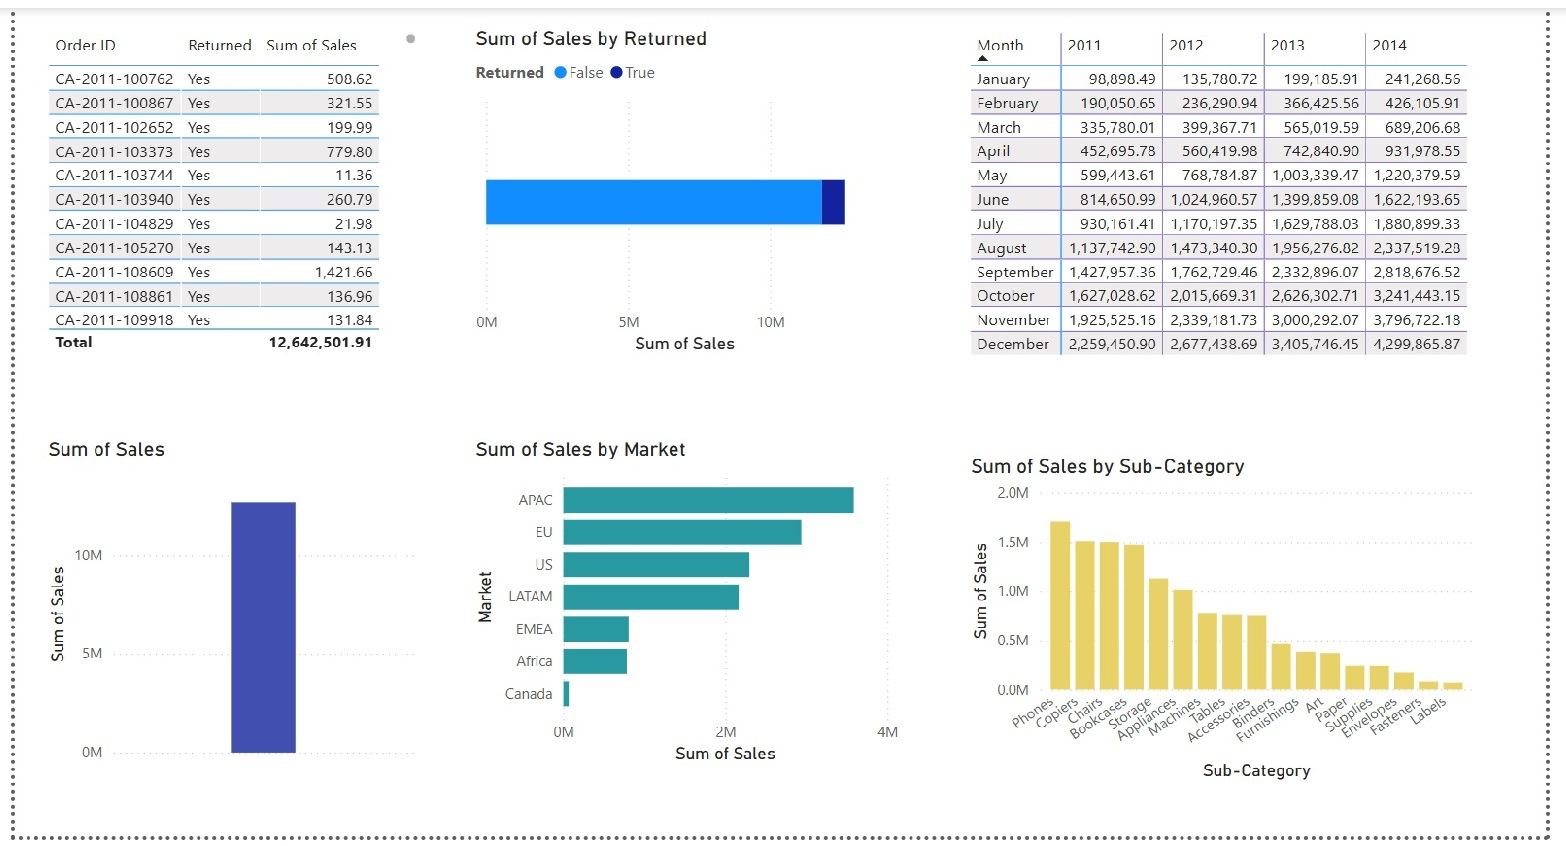

What the dashboard file says about the page in this screenshot:
{"tool":"powerbi","page":{"name":"Page 1","canvas":[1280,720],"ordinal":0},"visuals":[{"type":"tableEx","fields":{"Values":["Returns.Order ID","Returns.Returned","Sum(Orders.Sales)"]},"box":[22.7,17,318.1,287.8],"z":0},{"type":"barChart","fields":{"Y":["Sum(Orders.Sales)"],"Series":["Orders.Returned"]},"box":[380.6,17,363.6,287.8],"z":1000},{"type":"pivotTable","fields":{"Rows":["Orders.Order Date.Variation.Date Hierarchy.Month"],"Columns":["Orders.Order Date.Variation.Date Hierarchy.Year"],"Values":["Orders.YTD Sales"]},"box":[794.8,16.3,430.7,300.7],"z":2000},{"type":"clusteredColumnChart","fields":{"Y":["Sum(Orders.Sales)"]},"box":[22.7,373,318.1,287.8],"z":3000},{"type":"clusteredBarChart","fields":{"Category":["Orders.Market"],"Y":["Sum(Orders.Sales)"]},"box":[380.6,373,363.6,287.8],"z":3001},{"type":"clusteredColumnChart","fields":{"Y":["Sum(Orders.Sales)"],"Category":["Orders.Sub-Category"]},"box":[795.3,388.2,429.8,287.8],"z":3002}]}

Visuals, with their boxes on the page's 1280x720 design canvas (x1, y1, x2, y2). These are canvas units, not pixel positions in the 1566x846 screenshot, which may show the page scaled, cropped or inside an application window:
tableEx - Returns.Order ID x Returns.Returned: bbox=[23, 17, 341, 305]
barChart - Sum(Orders.Sales) x Orders.Returned: bbox=[381, 17, 744, 305]
pivotTable - Orders.Order Date.Variation.Date Hierarchy.Month x Orders.Order Date.Variation.Date Hierarchy.Year: bbox=[795, 16, 1226, 317]
clusteredColumnChart - Sum(Orders.Sales): bbox=[23, 373, 341, 661]
clusteredBarChart - Orders.Market x Sum(Orders.Sales): bbox=[381, 373, 744, 661]
clusteredColumnChart - Sum(Orders.Sales) x Orders.Sub-Category: bbox=[795, 388, 1225, 676]
